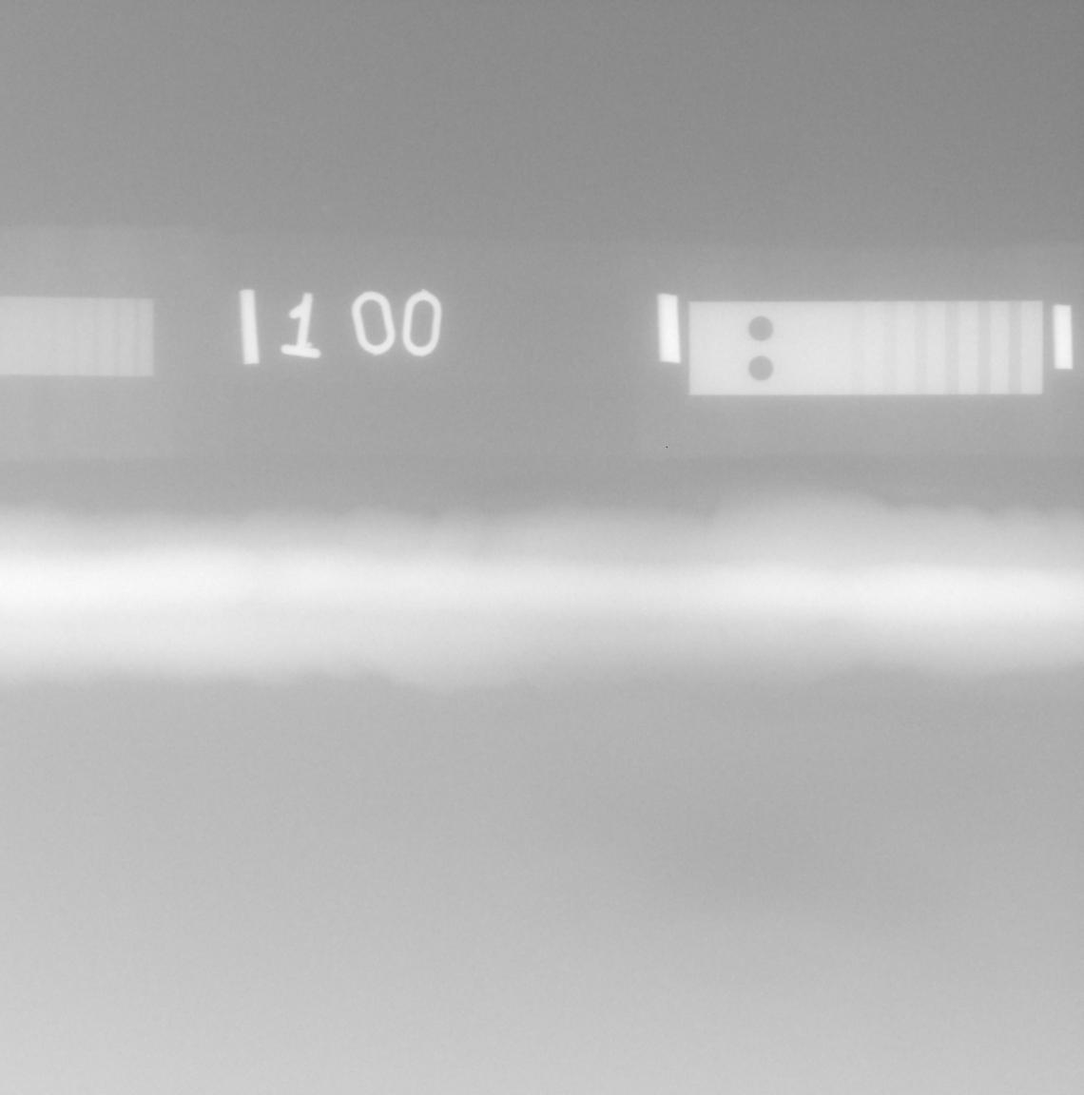Reference Standard 2: (688, 300, 1044, 396)
